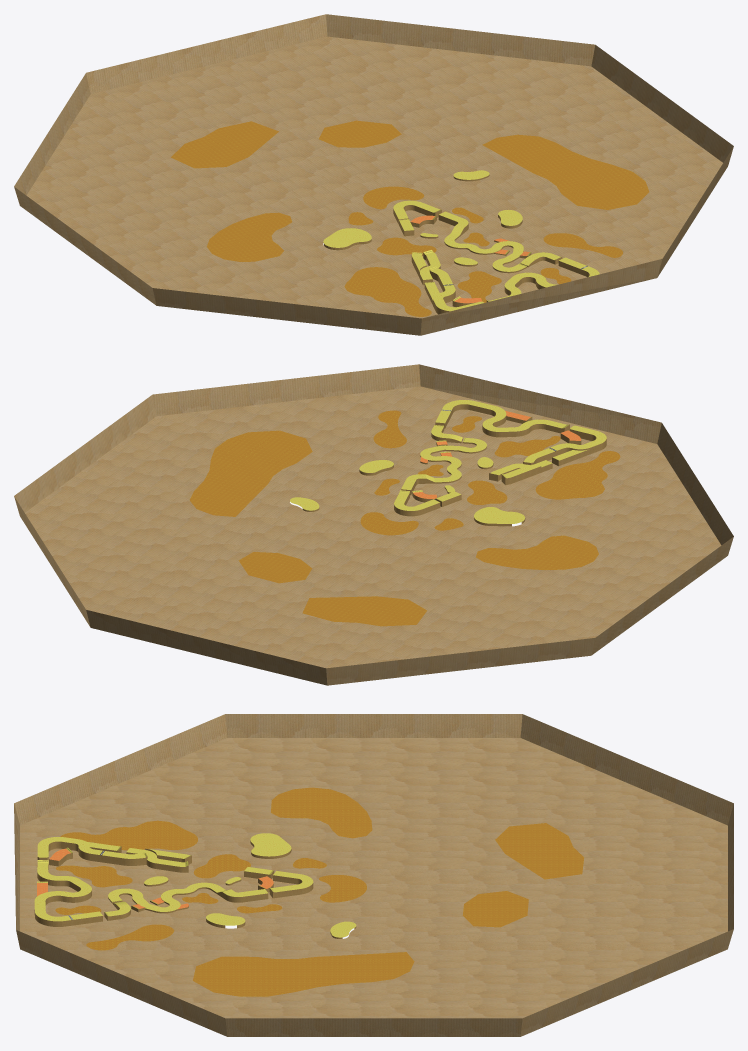
3 views of the same model, one above another, from view 1: azimuth 30°, elevation 25°; view 2: azimuth 150°, elevation 25°; view 3: azimuth 270°, elevation 25° (orthographic). The views are drawn at different scales.
Parts seen in each view (by area): view 1: piece_of_delight_SKP__cardboard, piece_of_delight_SKP__mold, piece_of_delight_SKP__road, piece_of_delight_SKP__wall; view 2: piece_of_delight_SKP__cardboard, piece_of_delight_SKP__mold, piece_of_delight_SKP__road, piece_of_delight_SKP__wall; view 3: piece_of_delight_SKP__cardboard, piece_of_delight_SKP__mold, piece_of_delight_SKP__road, piece_of_delight_SKP__wall, piece_of_delight_SKP__offroad.
Part boxes in pixels (x1,y1,x2,y2): piece_of_delight_SKP__cardboard: (14, 14, 733, 335); piece_of_delight_SKP__mold: (171, 120, 649, 316); piece_of_delight_SKP__road: (323, 170, 599, 311); piece_of_delight_SKP__wall: (324, 174, 589, 314); piece_of_delight_SKP__cardboard: (14, 364, 733, 685); piece_of_delight_SKP__mold: (189, 410, 620, 626); piece_of_delight_SKP__road: (290, 400, 606, 523); piece_of_delight_SKP__wall: (302, 404, 606, 526); piece_of_delight_SKP__cardboard: (14, 714, 733, 1036); piece_of_delight_SKP__mold: (55, 787, 584, 996); piece_of_delight_SKP__road: (34, 833, 356, 937); piece_of_delight_SKP__wall: (34, 840, 356, 938); piece_of_delight_SKP__offroad: (37, 848, 273, 909).
Size of the model in its own units: 229904 by 7500 by 229904.
Materials: 10 (9 with a texture image).
